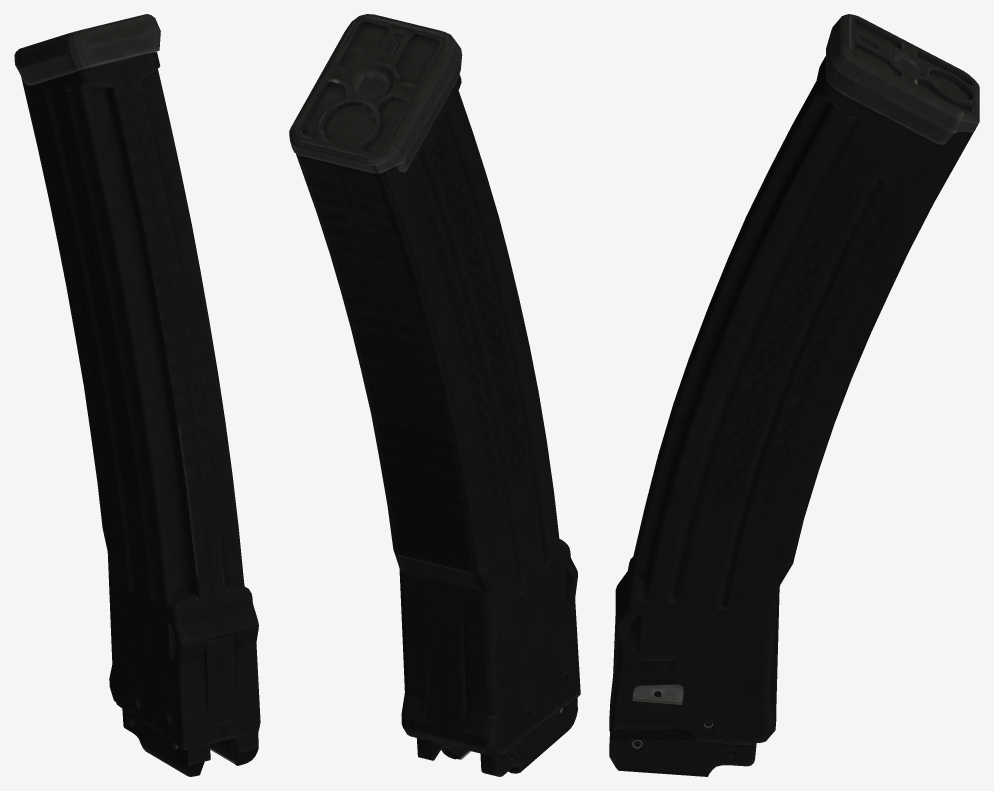
3 views of the same model, side by side, from view 1: azimuth 30°, elevation 25°; view 2: azimuth 150°, elevation 25°; view 3: azimuth 270°, elevation 25° (orthographic). The views are drawn at different scales.
Parts seen in each view (by area): view 1: TW_5894a05586f774094708ef75_PZ_Import; view 2: TW_5894a05586f774094708ef75_PZ_Import; view 3: TW_5894a05586f774094708ef75_PZ_Import.
Boxes of the visible parts, x1,y1,x2,y2 form: TW_5894a05586f774094708ef75_PZ_Import: [14, 14, 260, 776]; TW_5894a05586f774094708ef75_PZ_Import: [289, 14, 580, 776]; TW_5894a05586f774094708ef75_PZ_Import: [609, 14, 979, 776].
Size of the model in its own units: 0.0178 by 0.0568 by 0.1236.
1 material, 1 textured.
